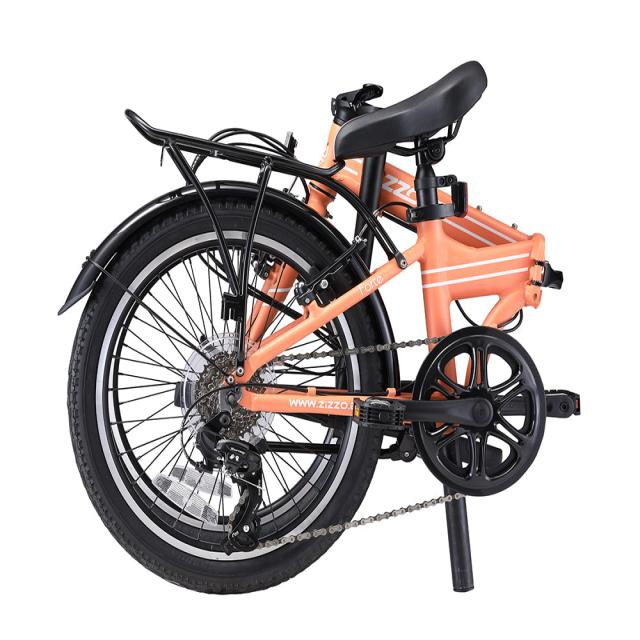folding-bike: (52, 52, 585, 604)
